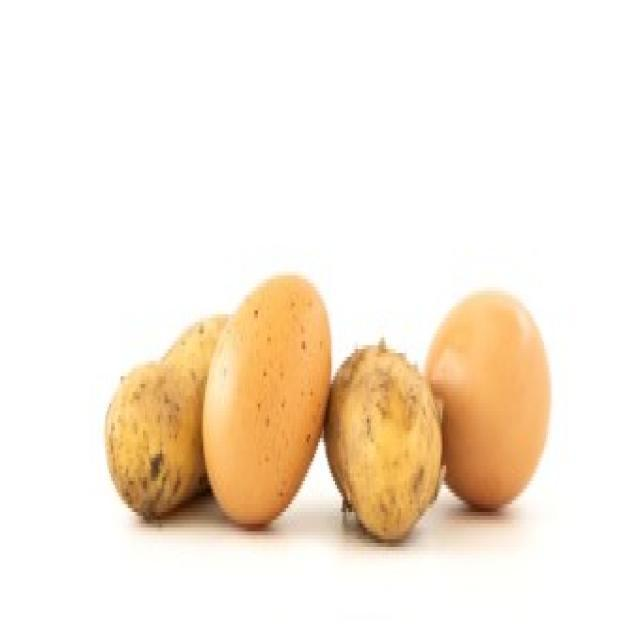potato: (109, 310, 263, 534), (324, 335, 442, 548)
